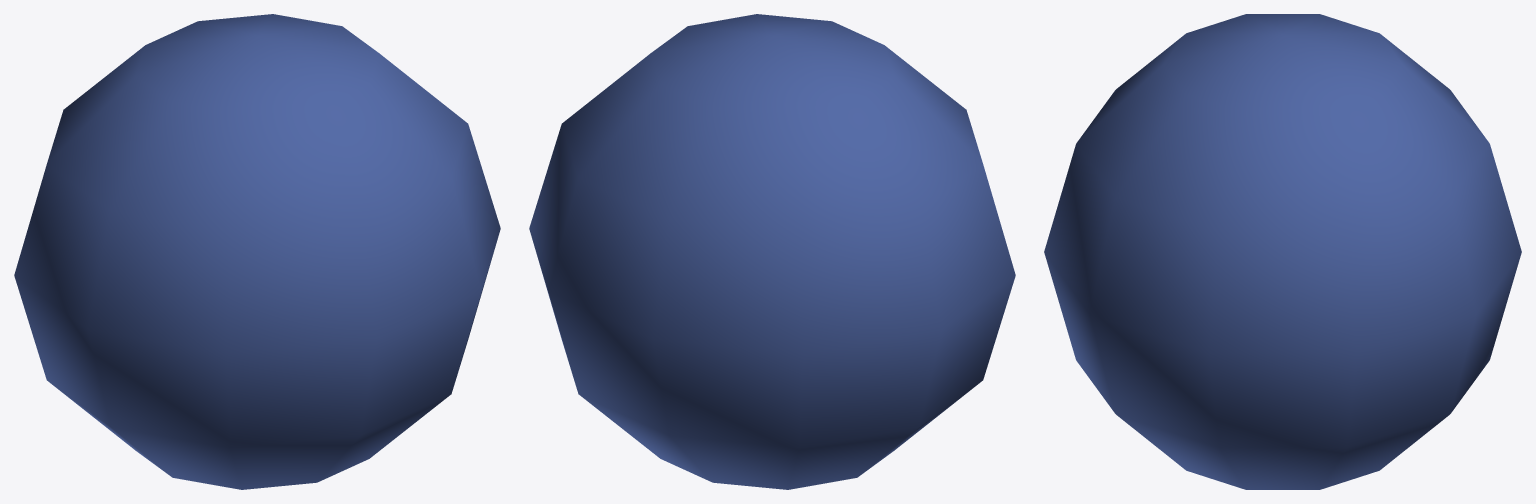
File: SM_Props_Pool_04.fbx
3 views of the same model, side by side, from view 1: azimuth 30°, elevation 25°; view 2: azimuth 150°, elevation 25°; view 3: azimuth 270°, elevation 25° (orthographic).
Parts seen in each view (by area): view 1: SM_Props_Pool_04; view 2: SM_Props_Pool_04; view 3: SM_Props_Pool_04.
Part boxes in pixels (bbox=[...]): SM_Props_Pool_04: bbox=[14, 14, 500, 489]; SM_Props_Pool_04: bbox=[529, 14, 1015, 489]; SM_Props_Pool_04: bbox=[1044, 14, 1521, 489].
Bounding box in the file's own units: 0.08 × 0.08 × 0.08.
